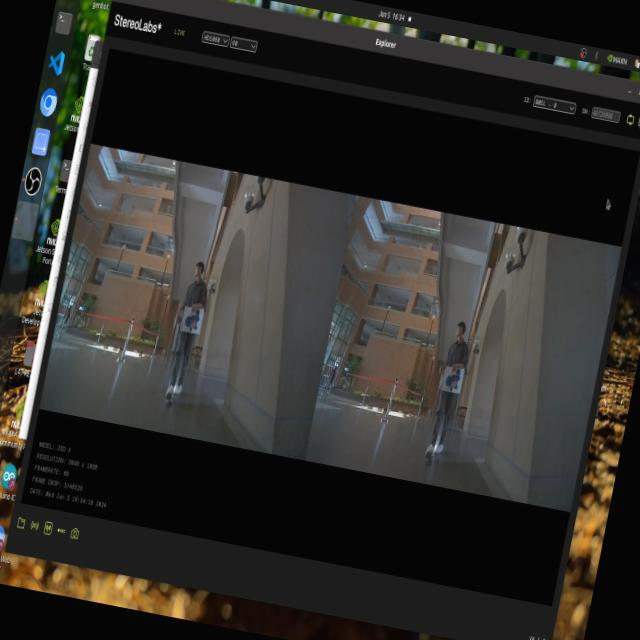blue: (437, 360, 472, 396), (182, 308, 206, 336)
